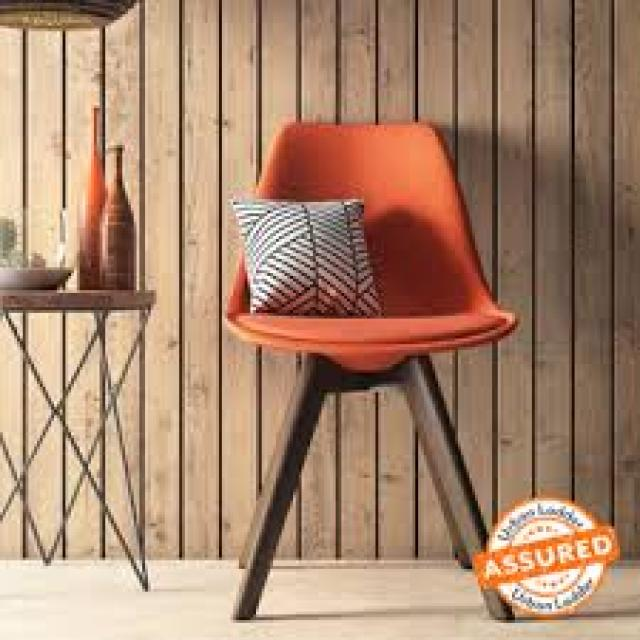chair: (178, 83, 567, 640)
